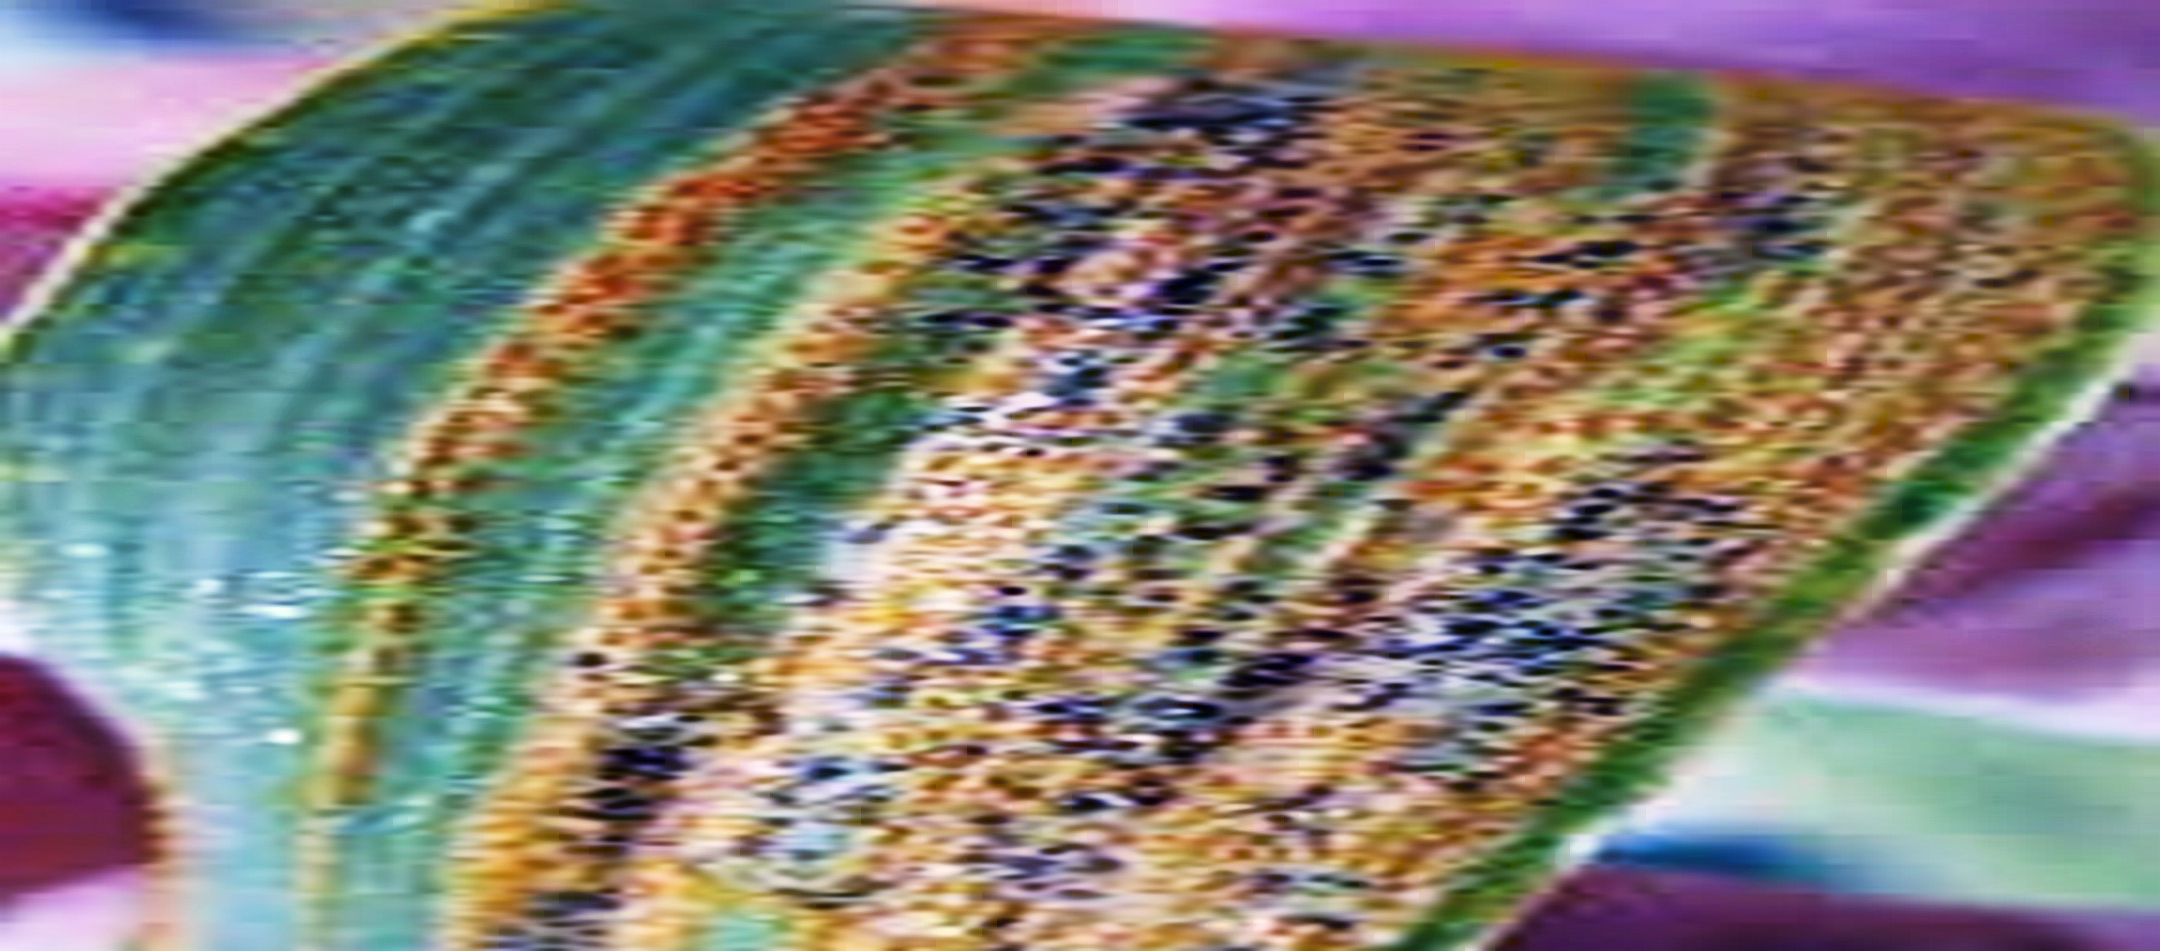Leaf Rust: (671, 132, 1727, 691)
